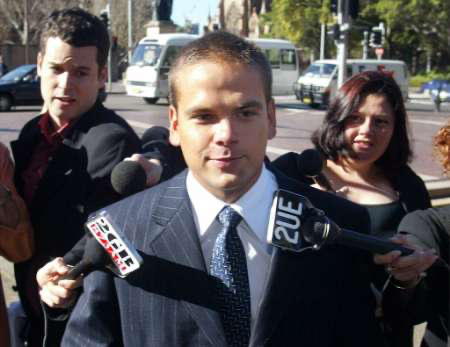Face: (178, 72, 274, 199), (36, 39, 101, 119), (336, 102, 399, 169)
